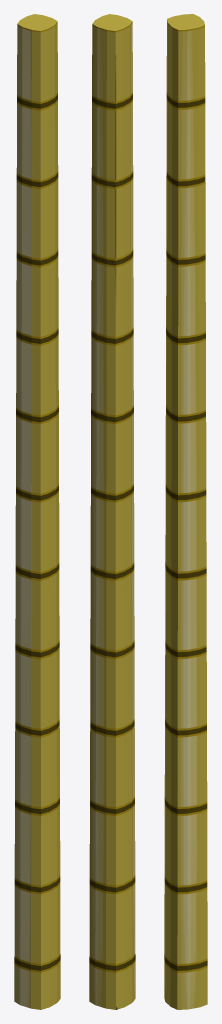
Rendered from Bambu.FBX.
3 views of the same model, side by side, from view 1: azimuth 30°, elevation 25°; view 2: azimuth 210°, elevation 25°; view 3: azimuth 270°, elevation 25° (orthographic).
Parts seen in each view (by area): view 1: Box001; view 2: Box001; view 3: Box001.
Part boxes in pixels (box(x1,y1,x2,y2)): Box001: box(14, 14, 60, 1009); Box001: box(89, 14, 135, 1009); Box001: box(164, 14, 207, 1009).
Size of the model in its own units: 4.08 by 101 by 4.08.
